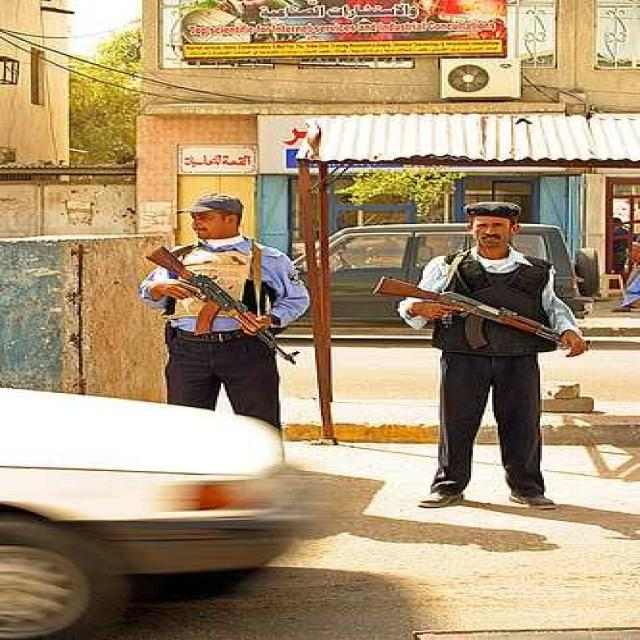Rifle: (134, 230, 322, 376), (366, 271, 583, 368)
